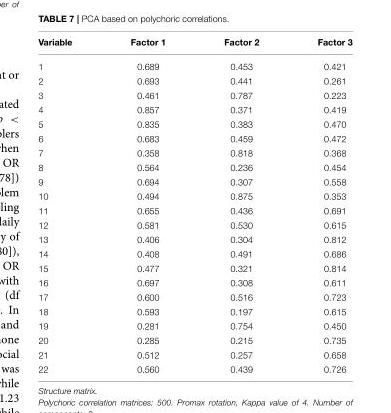table: (37, 37, 351, 373)
table column: (100, 37, 194, 373), (194, 37, 287, 373), (287, 37, 351, 373), (37, 37, 100, 373)
table column header: (37, 37, 351, 54)
table row: (37, 54, 351, 73), (37, 37, 351, 54), (37, 73, 351, 88), (37, 116, 351, 131), (37, 145, 351, 160), (37, 174, 351, 189), (37, 217, 351, 232), (37, 246, 351, 261), (37, 289, 351, 304), (37, 318, 351, 333), (37, 347, 351, 362), (37, 88, 351, 102), (37, 102, 351, 116), (37, 131, 351, 145), (37, 160, 351, 174), (37, 189, 351, 203), (37, 203, 351, 217), (37, 232, 351, 246), (37, 261, 351, 275), (37, 275, 351, 289), (37, 304, 351, 318), (37, 333, 351, 347), (37, 362, 351, 373)
